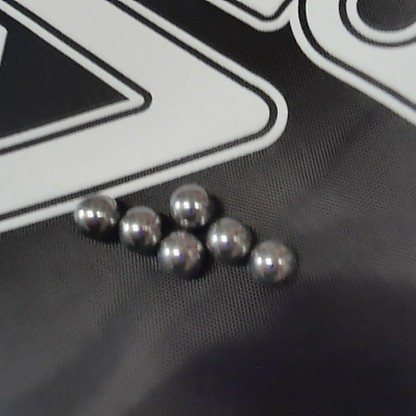ironball: (250, 239, 296, 282), (157, 232, 202, 275), (119, 202, 158, 249), (171, 183, 210, 225), (208, 217, 248, 256), (75, 196, 114, 231)
